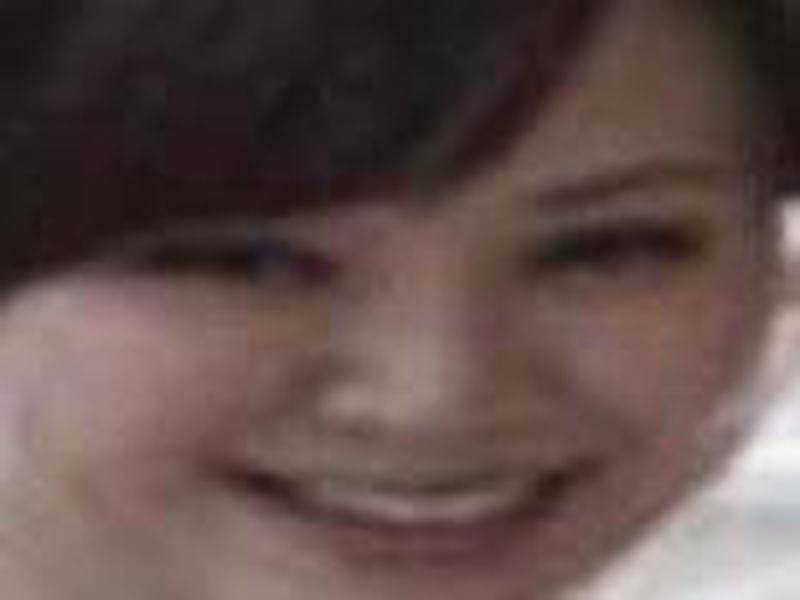without_mask: (6, 110, 777, 600)
